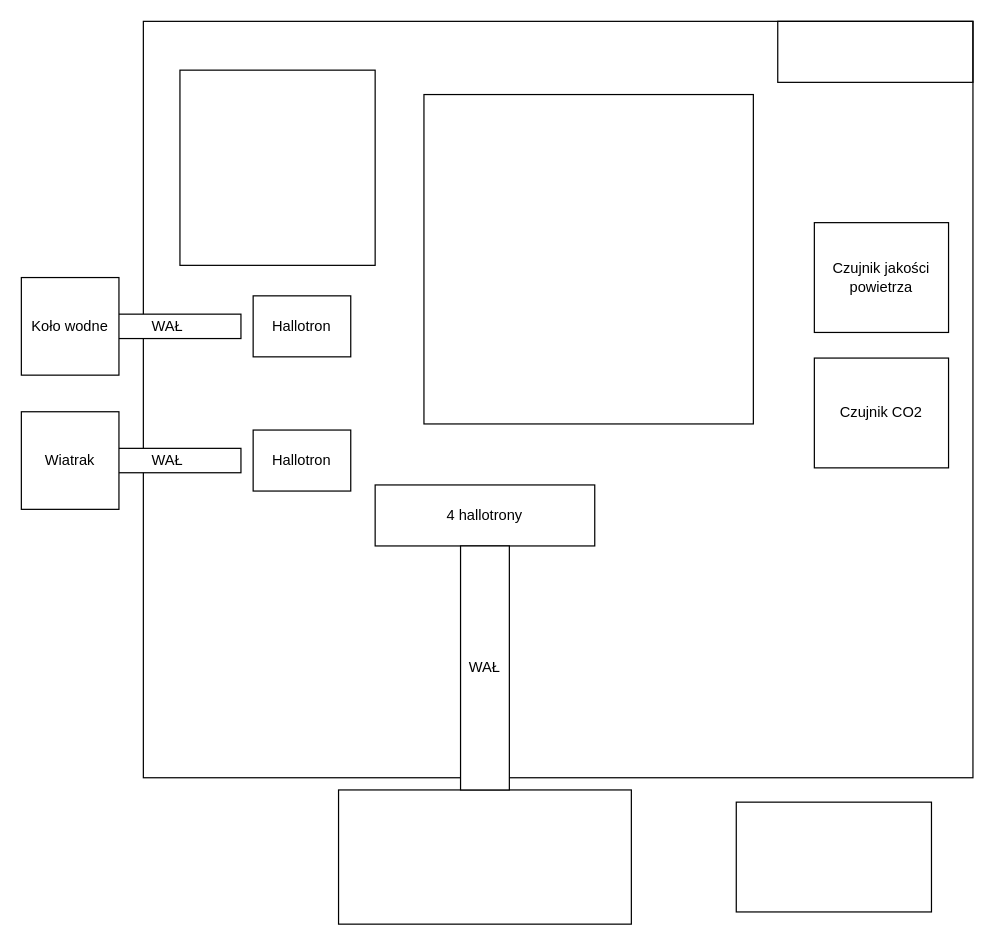
The diagram is 994 pixels wide and 946 high, and some of its shapes have lost their labels. Here are the shapes that lost their labels. From the top down, the centre of each, then its label:
the point at 875,51: OBUDOWA STACJI
the point at 277,167: Zasilanie
the point at 588,258: PCB
the point at 484,856: Wiatrowskaz
the point at 833,856: Czujnik Temperatury we własnej obudowie
